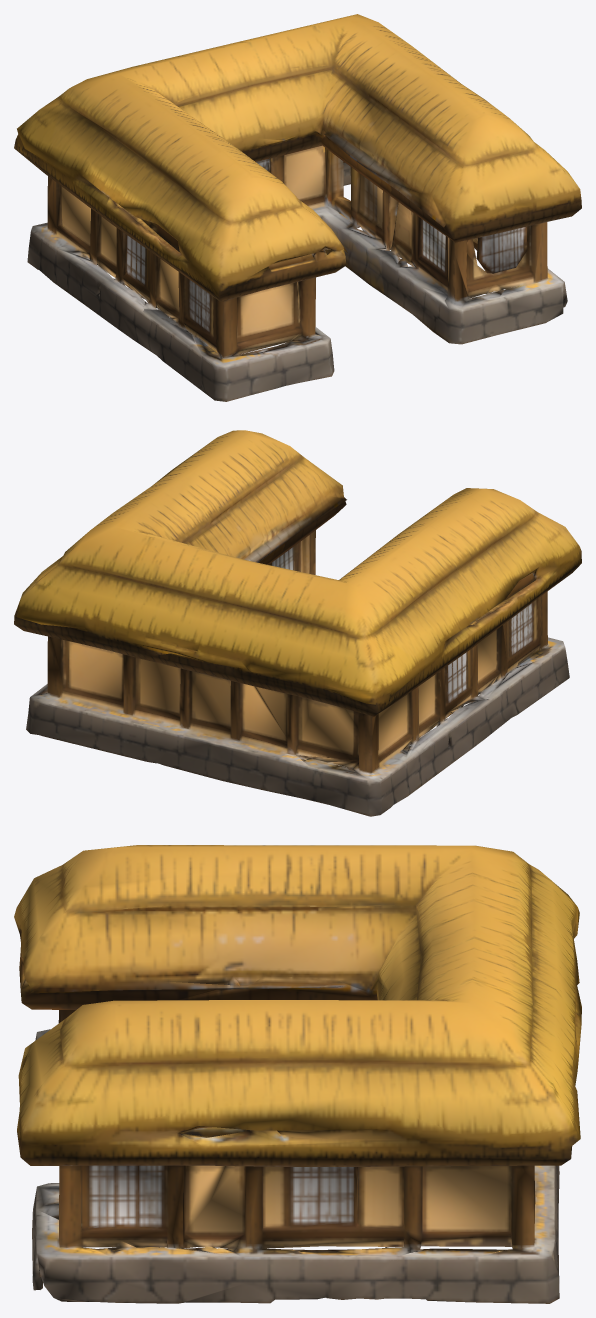
File: choga_L.glb
The picture shows the model from 3 angles, top to bottom: view 1: azimuth 30°, elevation 25°; view 2: azimuth 150°, elevation 25°; view 3: azimuth 270°, elevation 25°; orthographic projection. The views are drawn at different scales.
Visible parts, largest first — view 1: low; view 2: low; view 3: low.
Boxes of the visible parts, x1,y1,x2,y2 form: low: [14, 14, 581, 401]; low: [14, 430, 581, 816]; low: [14, 845, 581, 1303].
Bounding box in the file's own units: 0.9904 × 0.4958 × 0.9656.
Materials: 1 (1 with a texture image).
